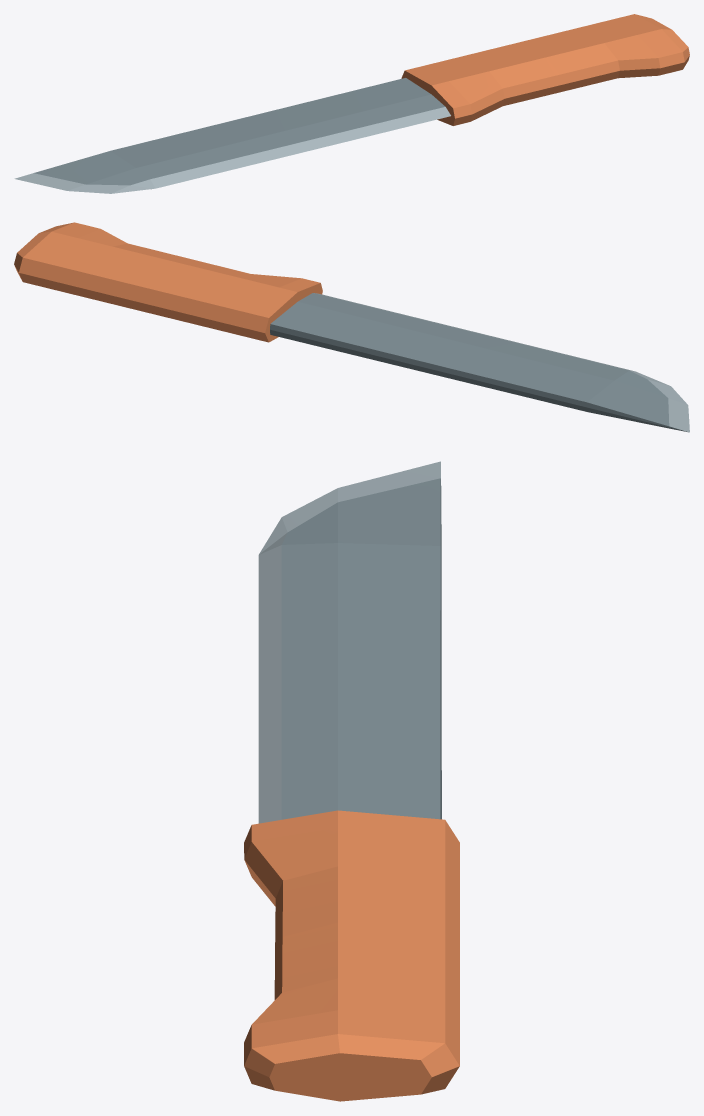
The model's file is knife.gltf.
The picture shows the model from 3 angles, top to bottom: view 1: azimuth 30°, elevation 25°; view 2: azimuth 150°, elevation 25°; view 3: azimuth 270°, elevation 25°; orthographic projection. The views are drawn at different scales.
Visible parts, largest first — view 1: Knife_Circle.028; view 2: Knife_Circle.028; view 3: Knife_Circle.028.
Boxes of the visible parts, x1,y1,x2,y2 form: Knife_Circle.028: (14, 14, 689, 193); Knife_Circle.028: (14, 222, 689, 432); Knife_Circle.028: (244, 461, 459, 1101).
Size of the model in its own units: 0.3021 by 0.0148 by 0.0446.
